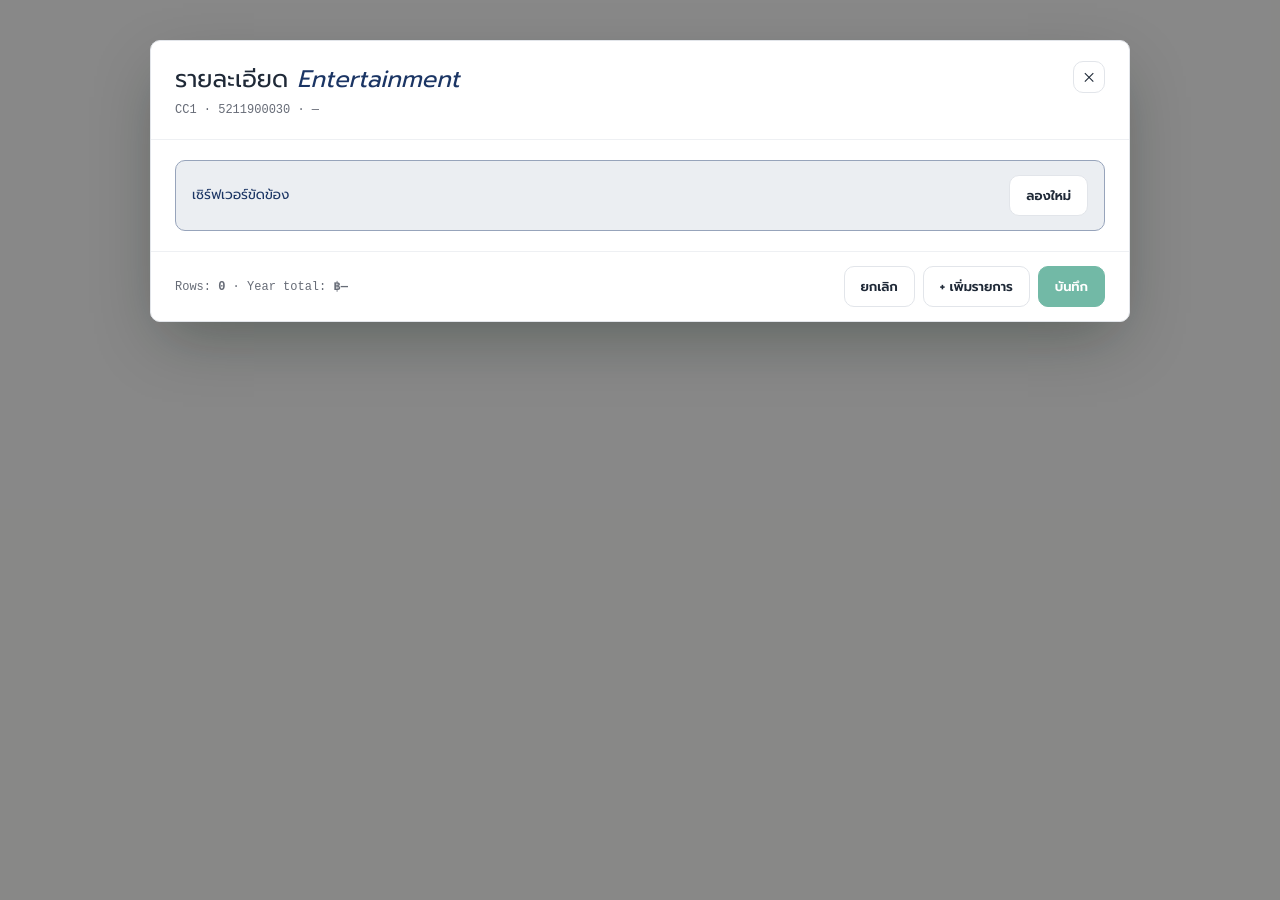
it: DetailSubform › shows an error state with retry on fetch failure
The width and height of the screenshot is (1280, 900).
Expected: the text "เซิร์ฟเวอร์ขัดข้อง" is shown, [192,185,289,206]
Click the button "ลองใหม่". click: (1049, 196)
box: [1009,175,1088,216]
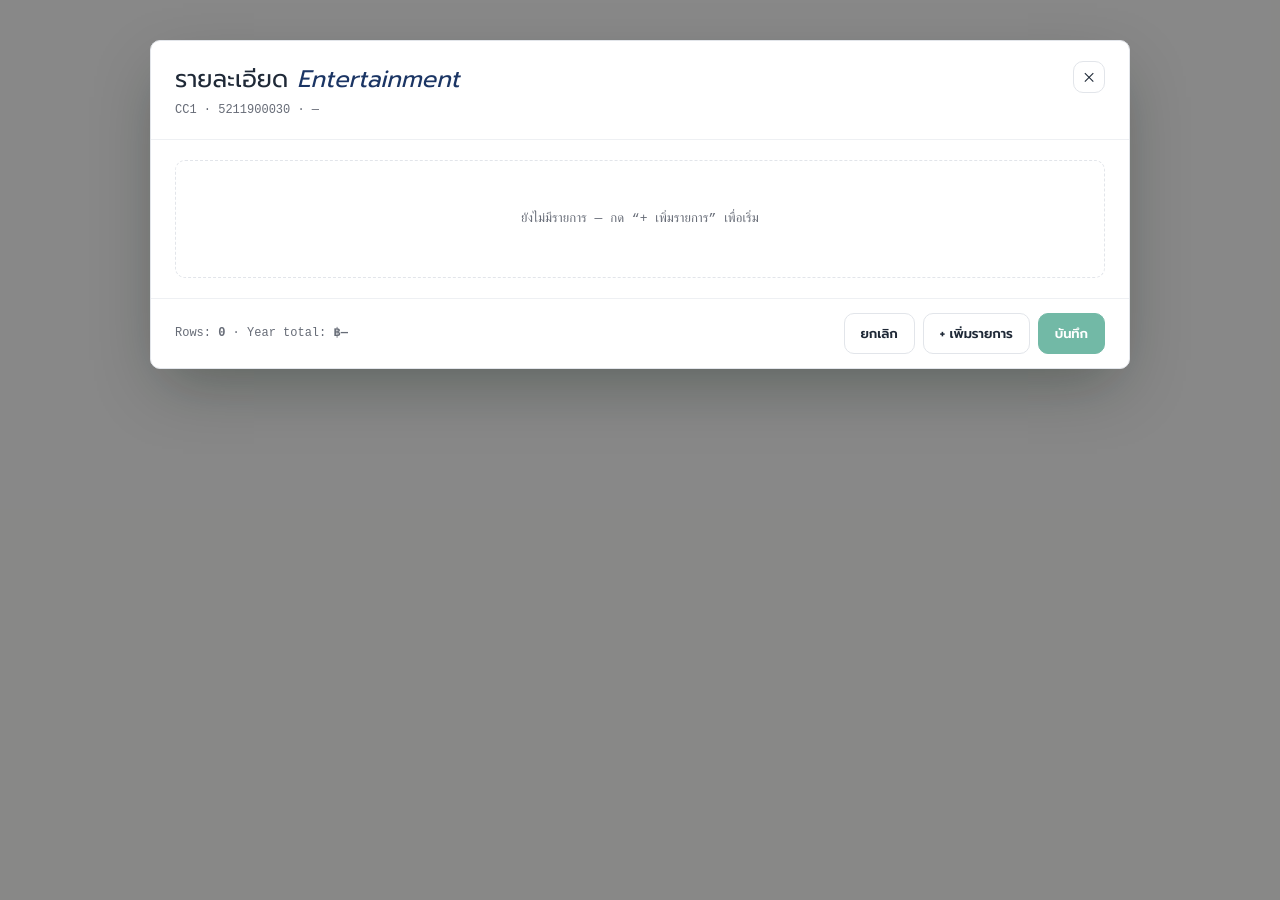
Result: the text "ยังไม่มีรายการ — กด “+ เพิ่มรายการ” เพื่อเริ่ม" is shown at [175,160,1105,278]
